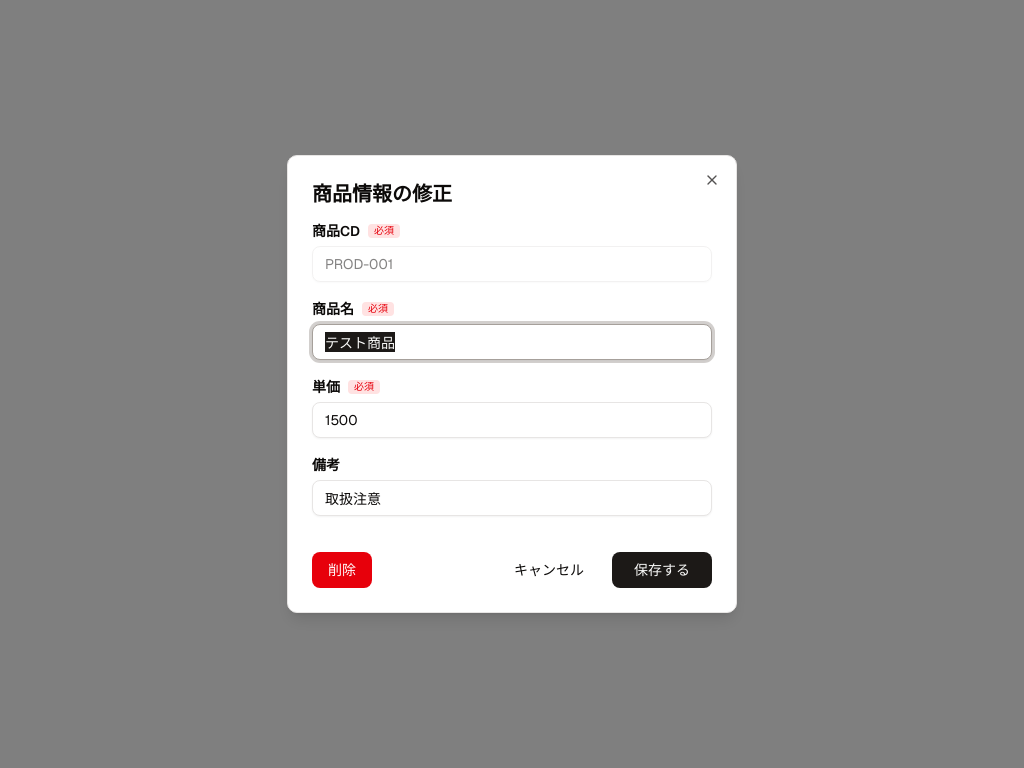
Test case: ProductDialog コンポーネント（編集） › 「削除」ボタンをクリックすると確認ダイアログが表示されること
Click the button "削除": [342, 570] box [312,552,372,588]
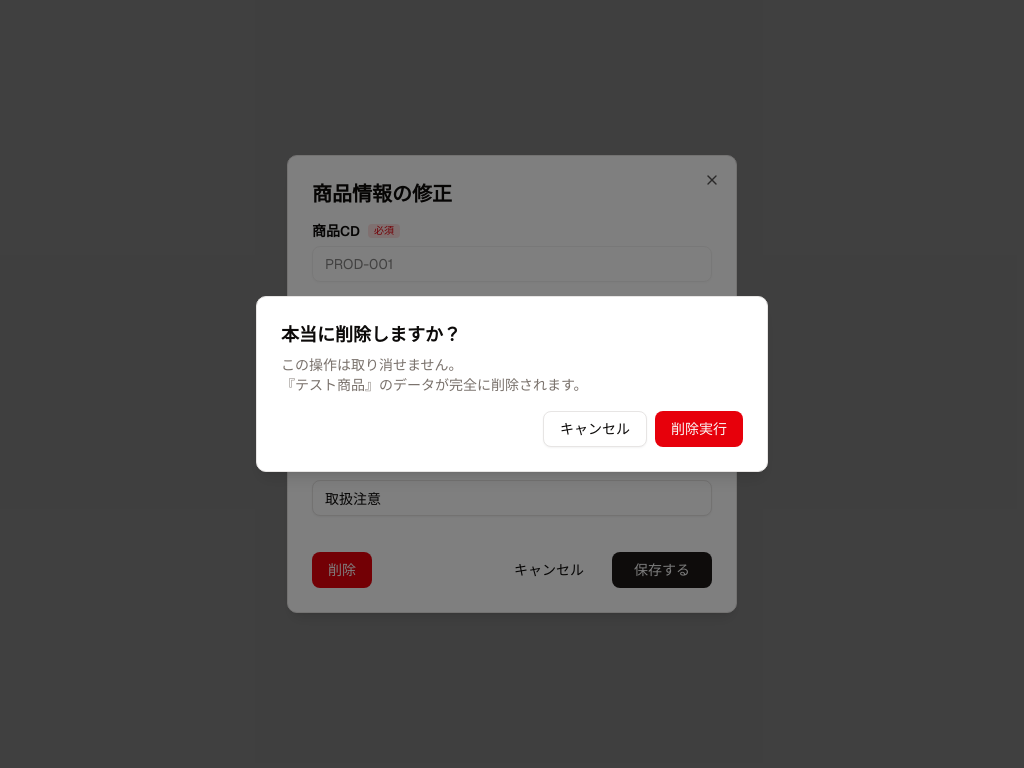
Expected: the heading "本当に削除しますか？" is shown, [281,321,461,349]
Expected: the text "この操作は取り消せません。『テスト商品』のデータが完全に削除されます。" is shown, [281,355,588,395]
